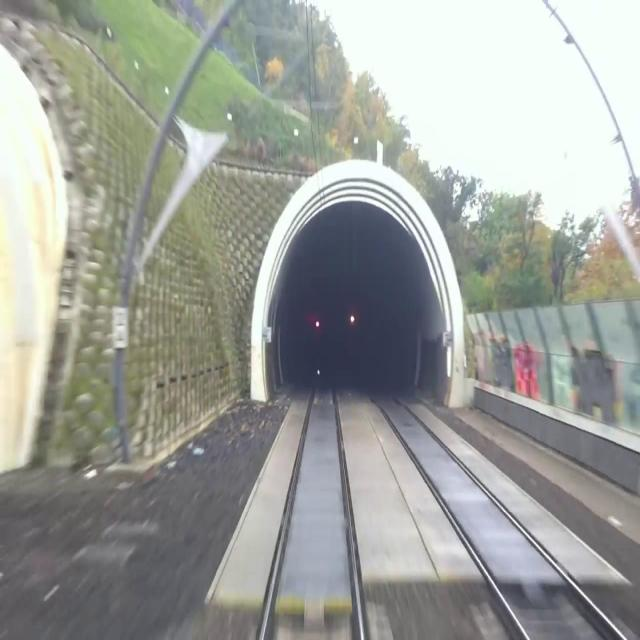rail-track: (360, 371, 619, 639), (264, 363, 359, 639)
